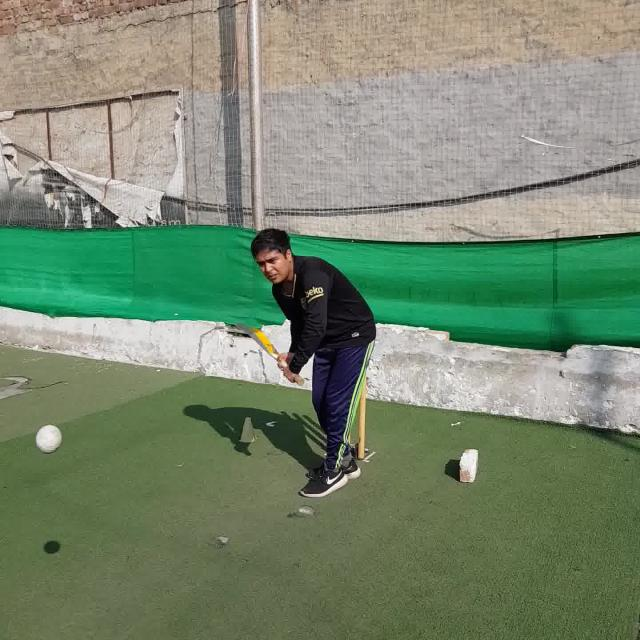ball: (36, 426, 63, 453)
bat: (236, 322, 304, 386)
